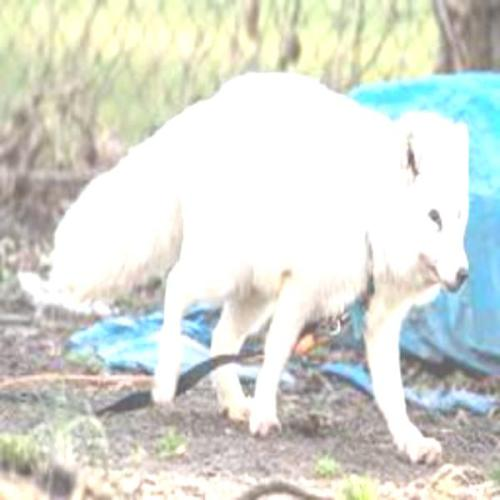arctic_fox-endangered: (61, 83, 471, 465)
